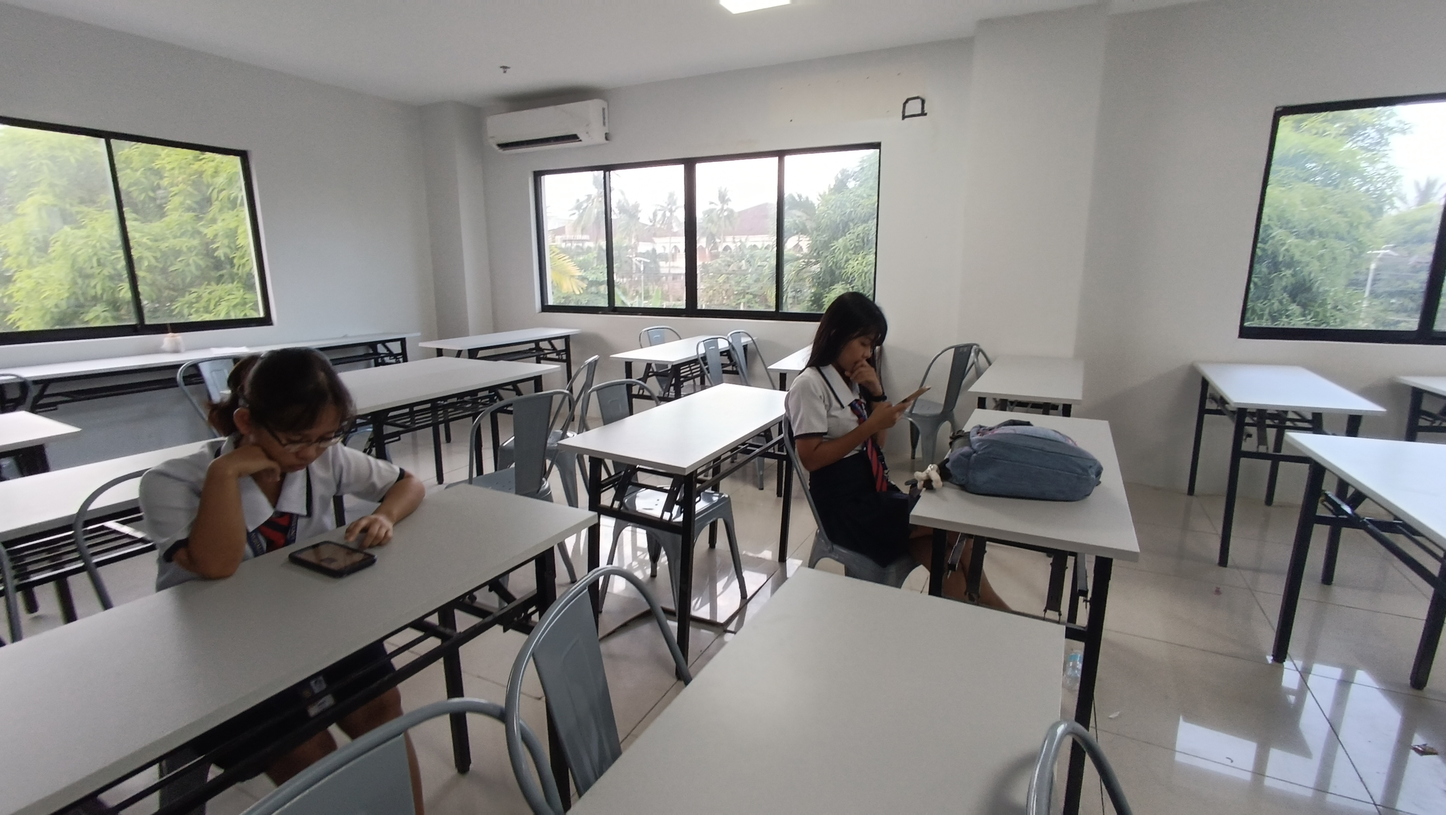with-student: (3, 345, 602, 815), (778, 271, 1144, 596)
